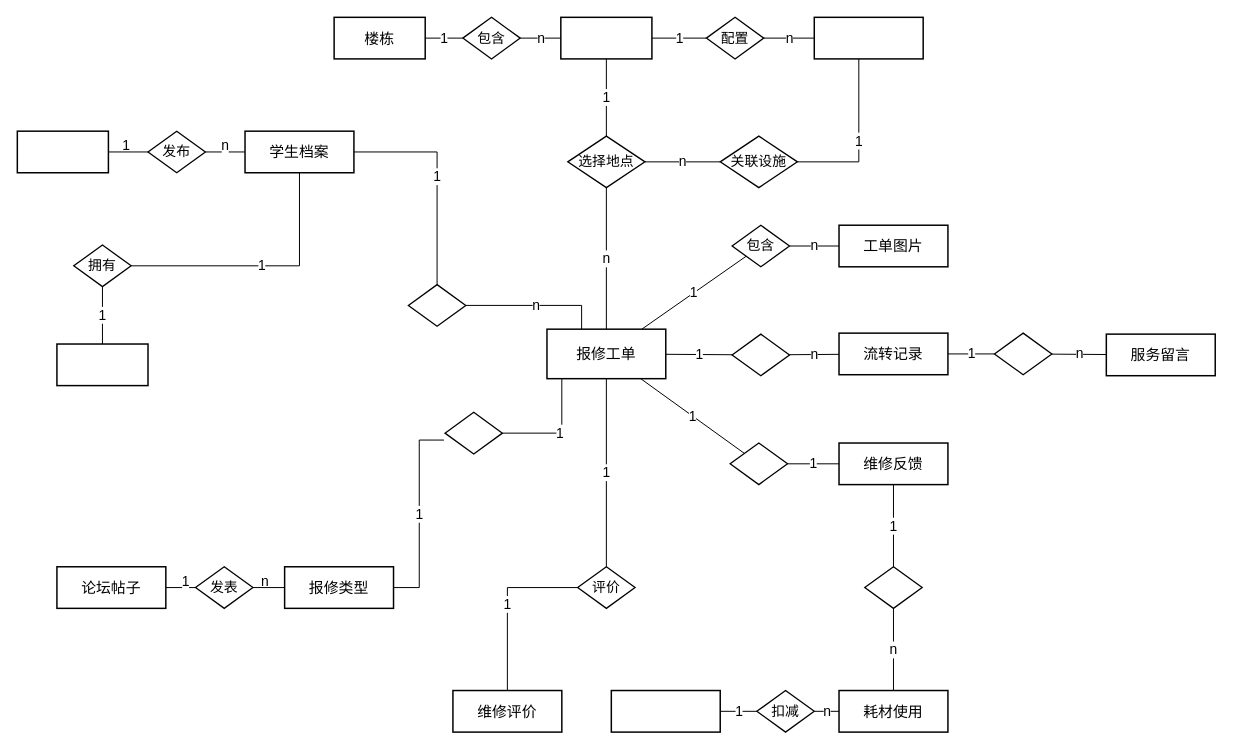
The diagram is 1234 pixels wide and 750 high, and some of its shapes have lost their labels. Each missing label, with the centre of its shape:
上报: point (893, 587)
产生: point (760, 354)
公告: point (62, 151)
分类: point (473, 432)
完成: point (758, 463)
宿舍: point (606, 37)
提交: point (436, 305)
用户: point (102, 364)
留言: point (1022, 353)
耗材库存: point (665, 710)
设施台账: point (868, 37)
